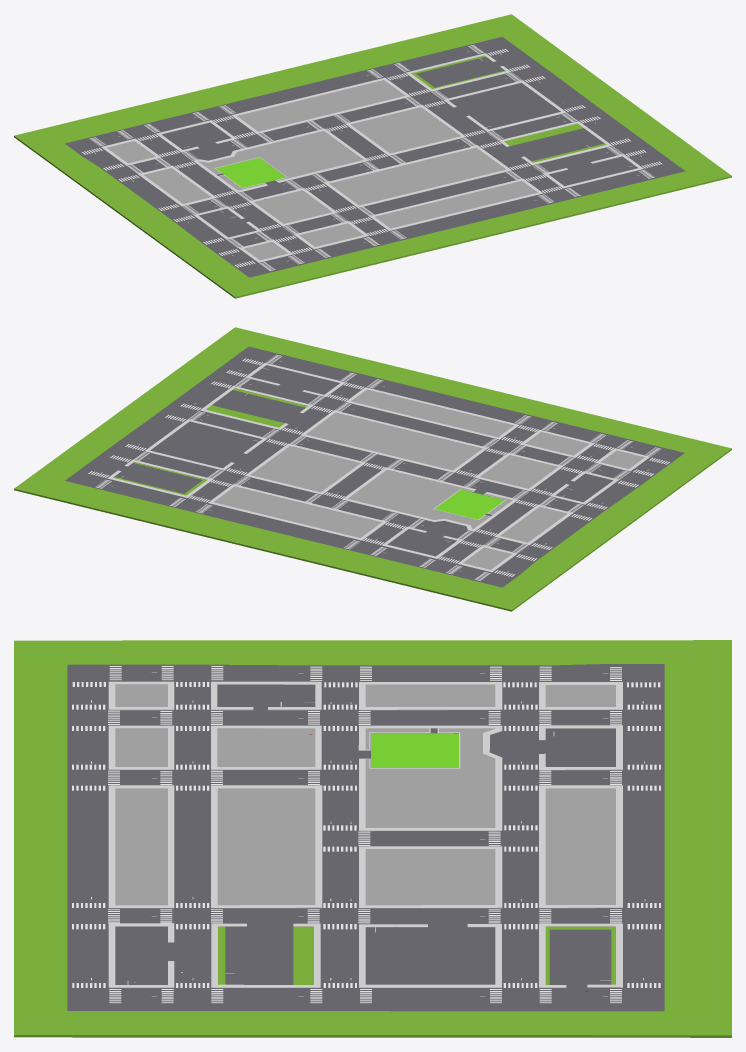
The model's file is emptyground1.glb.
The picture shows the model from 3 angles, top to bottom: view 1: azimuth 30°, elevation 25°; view 2: azimuth 150°, elevation 25°; view 3: azimuth 270°, elevation 25°; orthographic projection. The views are drawn at different scales.
Visible parts, largest first — view 1: Plane.1676, Plane.1864, Plane.019, Plane.1850, Plane.1849; view 2: Plane.1676, Plane.1864, Plane.019, Plane.1850, Plane.1849; view 3: Plane.1676, Plane.1864, Plane.019, Plane.1850, Plane.1849, Plane.1817.
Boxes of the visible parts, <box> form: Plane.1676: <box>14,14,731,298</box>; Plane.1864: <box>101,77,643,262</box>; Plane.019: <box>405,53,566,131</box>; Plane.1850: <box>504,123,605,162</box>; Plane.1849: <box>498,121,612,165</box>; Plane.1676: <box>14,327,731,611</box>; Plane.1864: <box>208,362,649,572</box>; Plane.019: <box>107,419,267,498</box>; Plane.1850: <box>206,388,307,427</box>; Plane.1849: <box>200,386,313,430</box>; Plane.1676: <box>14,640,731,1037</box>; Plane.1864: <box>108,681,622,987</box>; Plane.019: <box>359,923,622,987</box>; Plane.1850: <box>218,926,313,984</box>; Plane.1849: <box>211,923,320,987</box>; Plane.1817: <box>545,926,615,984</box>.
Bounding box in the file's own units: 6.83 × 0.0449 × 5.25.
